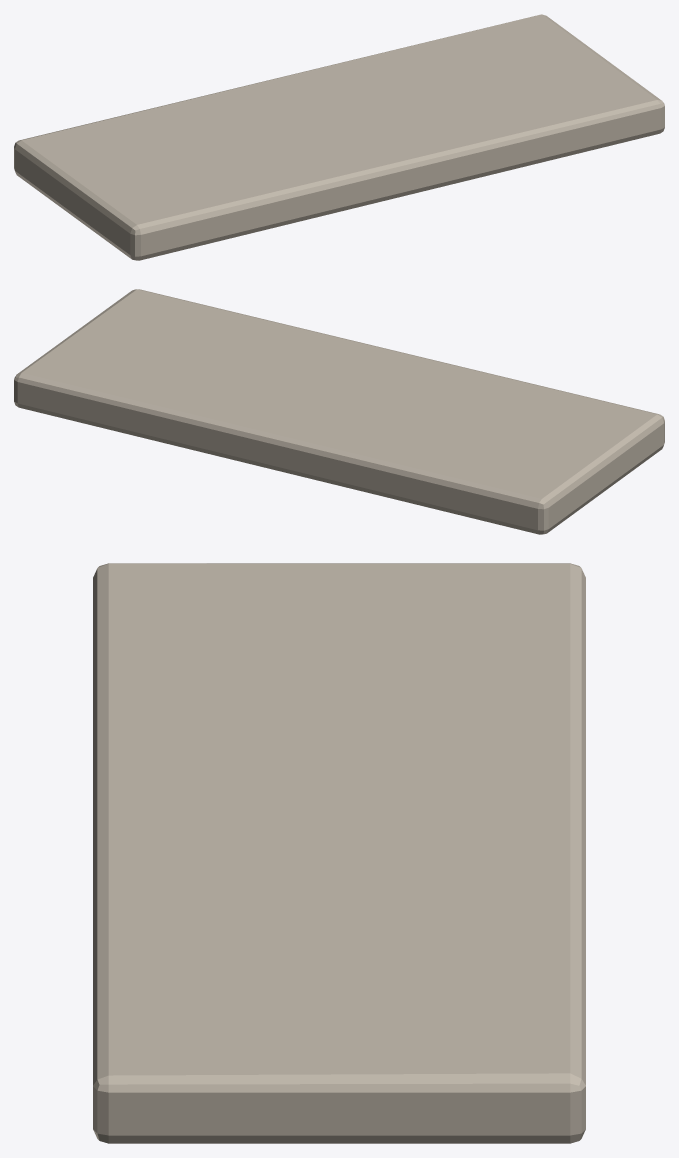
File: street_slab_worn.fbx
3 views of the same model, one above another, from view 1: azimuth 30°, elevation 25°; view 2: azimuth 150°, elevation 25°; view 3: azimuth 270°, elevation 25° (orthographic). The views are drawn at different scales.
Parts seen in each view (by area): view 1: Street_Slab_Worn; view 2: Street_Slab_Worn; view 3: Street_Slab_Worn.
Part boxes in pixels (left/top/right/bottom): Street_Slab_Worn: left=14, top=14, right=664, bottom=260; Street_Slab_Worn: left=14, top=289, right=664, bottom=534; Street_Slab_Worn: left=93, top=563, right=585, bottom=1143.
Size of the model in its own units: 250 by 16 by 100.
